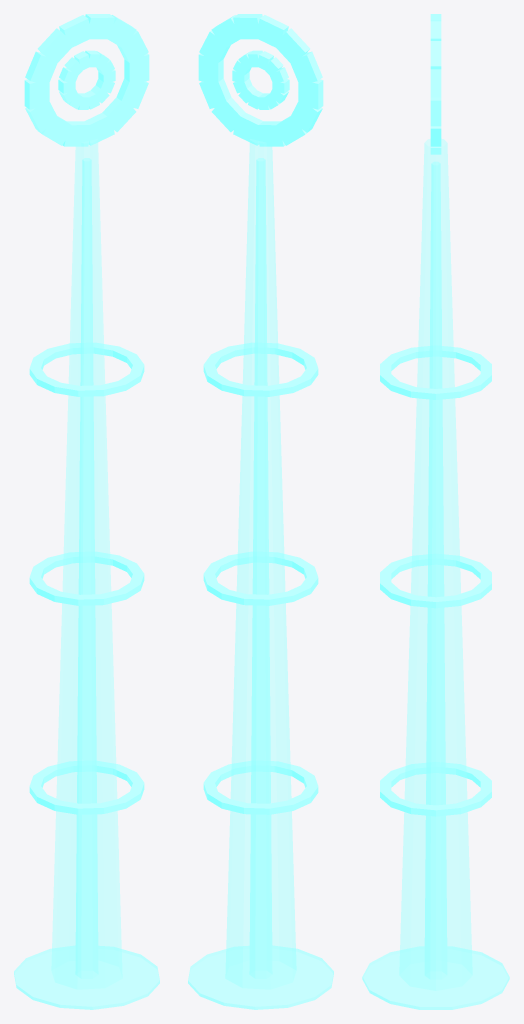
Rendered from fx_drop_set.glb.
3 renders of one model, left to right at view 1: azimuth 30°, elevation 25°; view 2: azimuth 150°, elevation 25°; view 3: azimuth 270°, elevation 25°, orthographic.
Visible parts, largest first — view 1: fx_drop_set; view 2: fx_drop_set; view 3: fx_drop_set.
Boxes of the visible parts, left/top/right/bottom form: fx_drop_set: left=14, top=14, right=159, bottom=1009; fx_drop_set: left=188, top=14, right=333, bottom=1009; fx_drop_set: left=362, top=14, right=509, bottom=1009.
Size of the model in its own units: 0.624 by 4.61 by 0.64.
